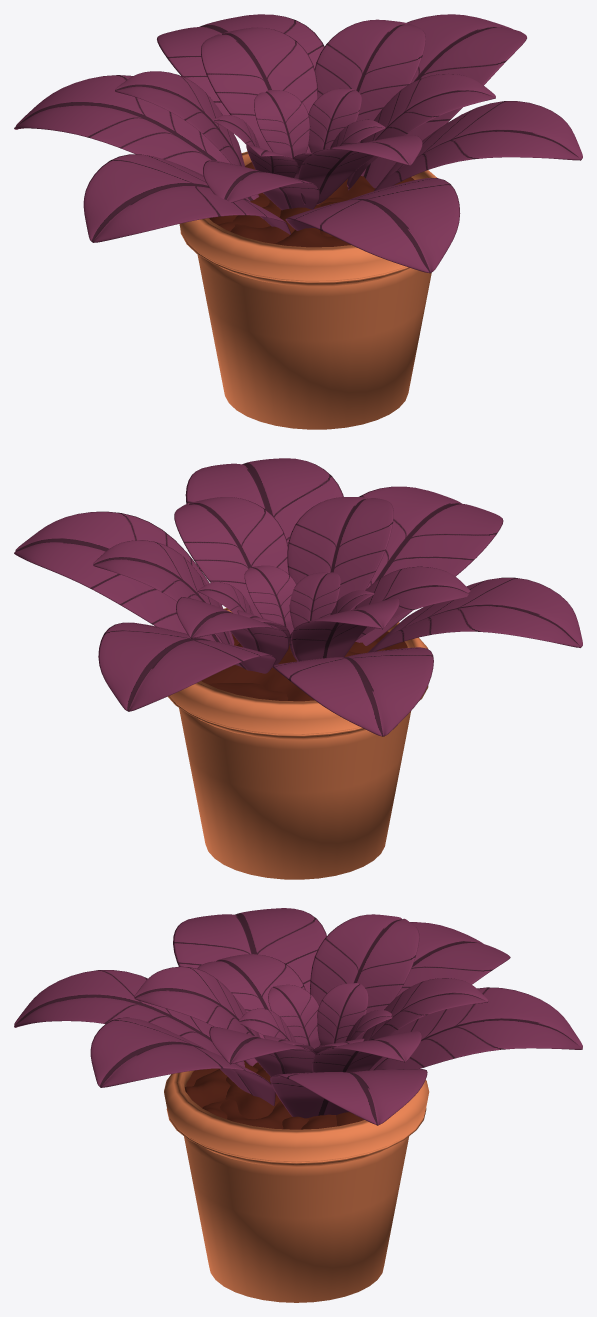
The model's file is Plant2.fbx.
3 renders of one model, top to bottom at view 1: azimuth 30°, elevation 25°; view 2: azimuth 150°, elevation 25°; view 3: azimuth 270°, elevation 25°, orthographic. The views are drawn at different scales.
Visible parts, largest first — view 1: Pot.005, Plane.008, Plane.011, Plane.007, Plane.010, Plane.017, Plane.014, Plane.009, Plane.013, Plane.006, Plane.016, dirt (+7 smaller); view 2: Pot.005, Plane.009, Plane.006, Plane.007, Plane.011, Plane.008, Plane.012, Plane.013, Plane.010, Plane.014, Plane.016, Plane.017 (+5 smaller); view 3: Pot.005, Plane.006, Plane.016, Plane.008, Plane.010, Plane.011, Plane.009, dirt, Plane.012, Plane.007, Plane.015, Plane.017 (+6 smaller).
Boxes of the visible parts, x1,y1,x2,y2 form: Pot.005: (179, 151, 436, 429); Plane.008: (83, 154, 290, 242); Plane.011: (285, 178, 460, 273); Plane.007: (14, 75, 259, 201); Plane.010: (374, 101, 582, 190); Plane.017: (201, 27, 317, 153); Plane.014: (314, 19, 425, 143); Plane.009: (361, 14, 526, 188); Plane.013: (347, 74, 495, 190); Plane.006: (157, 14, 324, 152); Plane.016: (115, 71, 250, 196); dirt: (209, 162, 414, 247); Pot.005: (168, 608, 428, 879); Plane.009: (14, 511, 234, 645); Plane.006: (98, 622, 276, 711); Plane.007: (272, 647, 433, 736); Plane.011: (355, 486, 503, 645); Plane.008: (368, 577, 582, 652); Plane.012: (287, 497, 393, 610); Plane.013: (174, 497, 288, 617); Plane.010: (185, 458, 343, 544); Plane.014: (93, 540, 232, 644); Plane.016: (291, 598, 399, 661); Plane.017: (176, 597, 288, 667); Pot.005: (164, 1070, 429, 1302); Plane.006: (369, 987, 582, 1070); Plane.016: (310, 914, 419, 1045); Plane.008: (173, 908, 326, 1066); Plane.010: (90, 1017, 275, 1105); Plane.011: (14, 970, 244, 1066); Plane.009: (270, 1068, 427, 1125); dirt: (184, 1060, 364, 1129); Plane.012: (134, 966, 260, 1037); Plane.007: (396, 922, 510, 996); Plane.015: (197, 954, 305, 1038); Plane.017: (362, 978, 488, 1041).
Bounding box in the file's own units: 546 × 312 × 563.
Materials: 8 (6 with a texture image).
